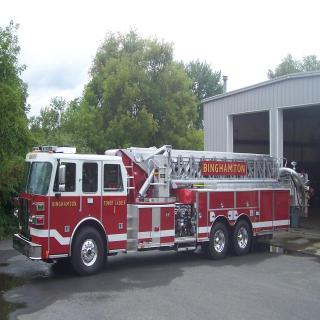Fire_truck: (12, 144, 313, 276)
